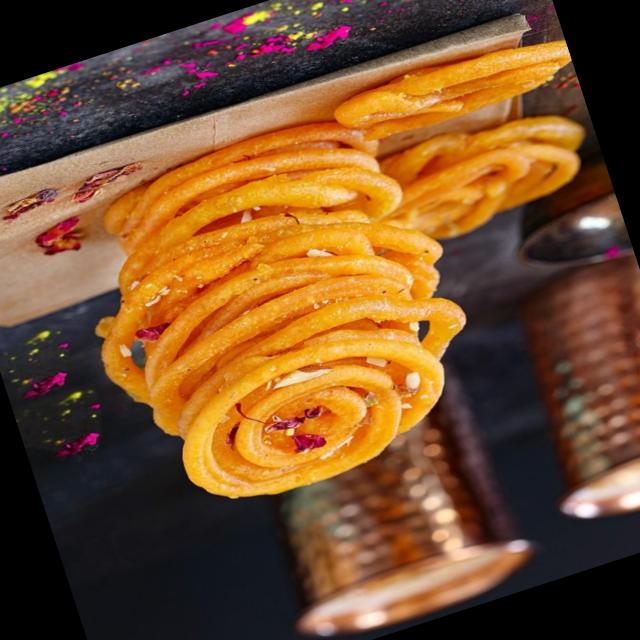jalebi: (61, 90, 492, 540), (393, 10, 613, 240)
